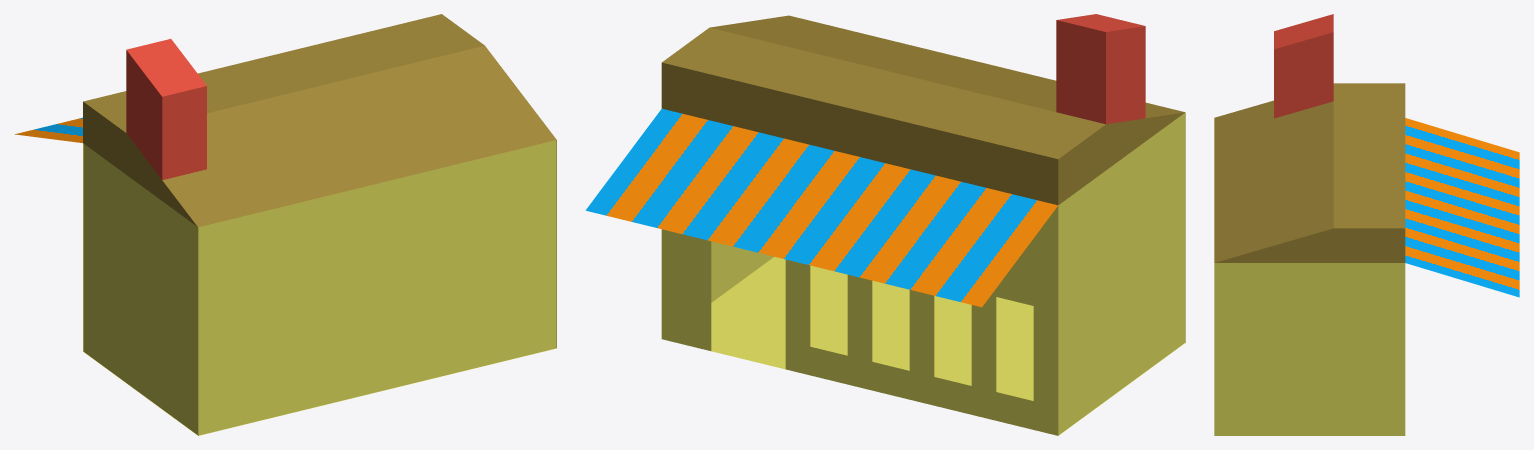
The model's file is Shop.fbx.
3 renders of one model, left to right at view 1: azimuth 30°, elevation 25°; view 2: azimuth 150°, elevation 25°; view 3: azimuth 270°, elevation 25°, orthographic. The views are drawn at different scales.
Parts seen in each view (by area): view 1: Shop; view 2: Shop; view 3: Shop.
Part boxes in pixels (box(x1,y1,x2,y2)): Shop: box(15, 14, 556, 435); Shop: box(585, 14, 1185, 435); Shop: box(1214, 14, 1519, 435).
Bounding box in the file's own units: 900 × 800 × 800.
